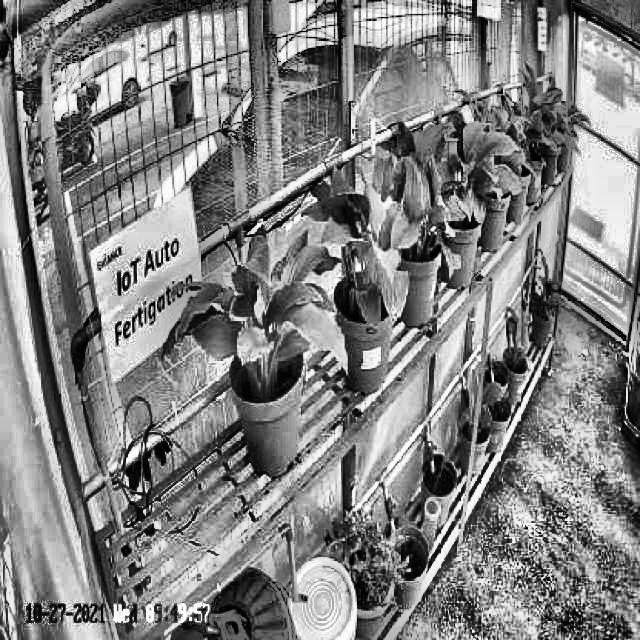plants: (162, 222, 348, 376), (303, 169, 408, 326), (363, 140, 462, 276), (426, 110, 520, 228)
